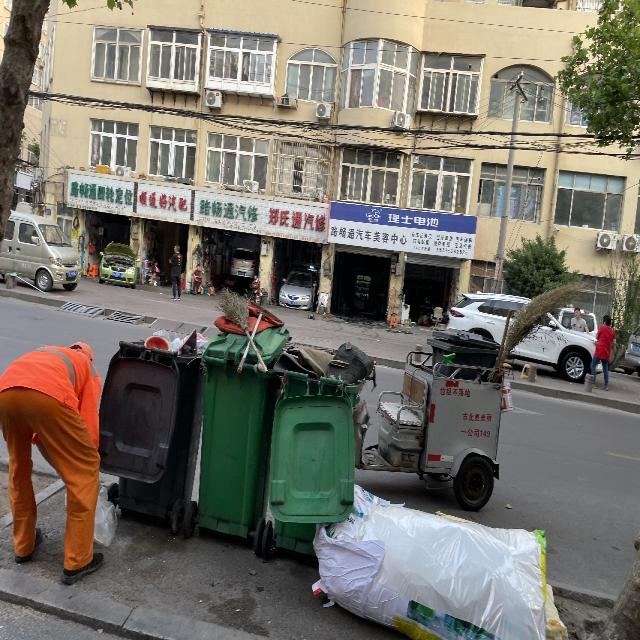garbage: (311, 481, 567, 639)
overflow: (197, 288, 296, 538), (268, 339, 374, 561), (98, 327, 206, 530)
